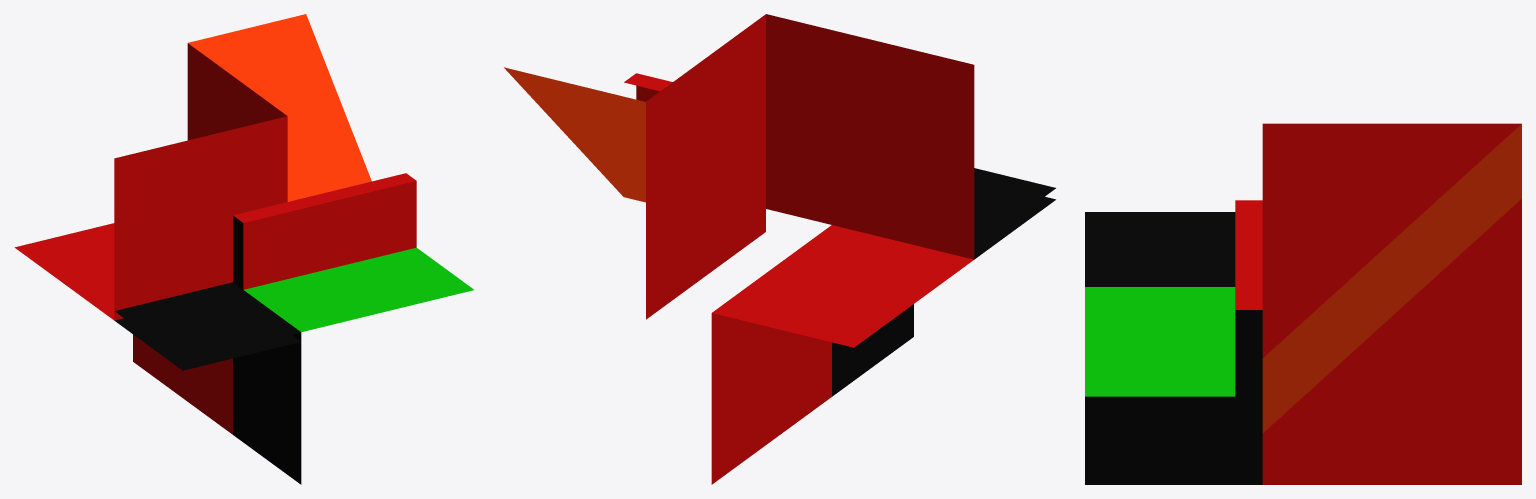
3 renders of one model, left to right at view 1: azimuth 30°, elevation 25°; view 2: azimuth 150°, elevation 25°; view 3: azimuth 270°, elevation 25°, orthographic. The views are drawn at different scales.
Parts seen in each view (by area): view 1: None_S_W_E_E_E_P_A_E_None; view 2: None_S_W_E_E_E_P_A_E_None; view 3: None_S_W_E_E_E_P_A_E_None.
Boxes of the visible parts, box(x1,y1,x2,y2) form: None_S_W_E_E_E_P_A_E_None: box(14, 14, 473, 484); None_S_W_E_E_E_P_A_E_None: box(504, 14, 1055, 484); None_S_W_E_E_E_P_A_E_None: box(1085, 123, 1521, 484).
Size of the model in its own units: 100 by 100 by 100.
